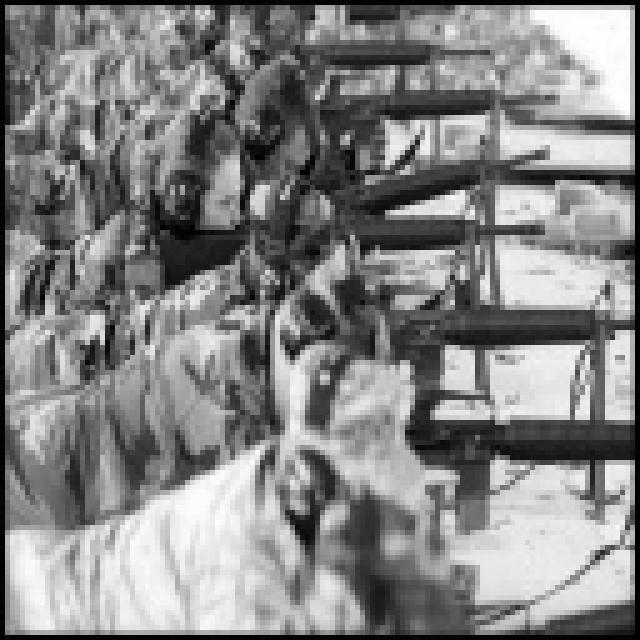Rifle: (369, 375, 640, 537), (145, 207, 547, 288), (353, 289, 640, 382), (268, 124, 570, 206), (302, 71, 608, 141), (268, 31, 536, 68), (263, 0, 480, 35), (435, 586, 640, 622), (599, 639, 623, 640)
